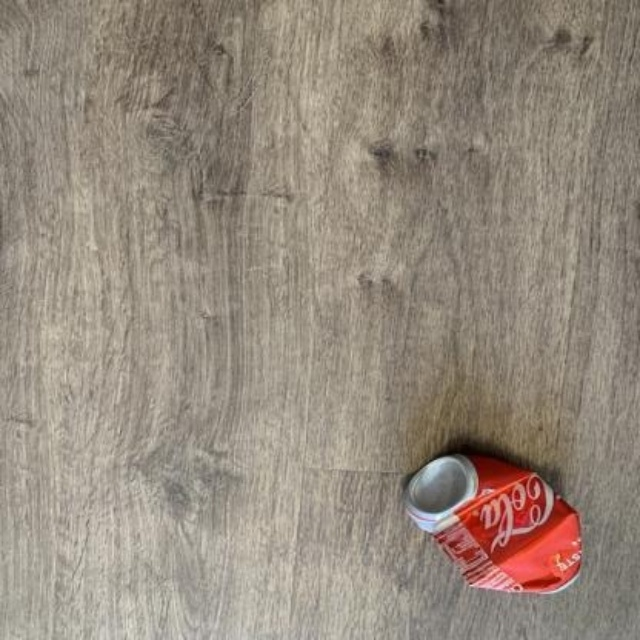trash: (405, 454, 580, 591)
